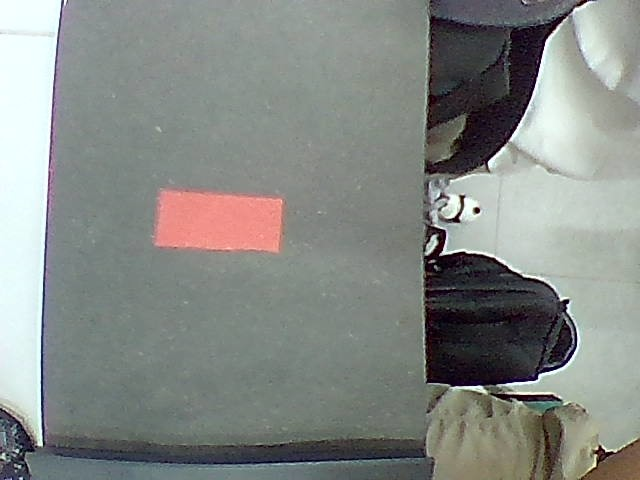card: (156, 189, 281, 251)
